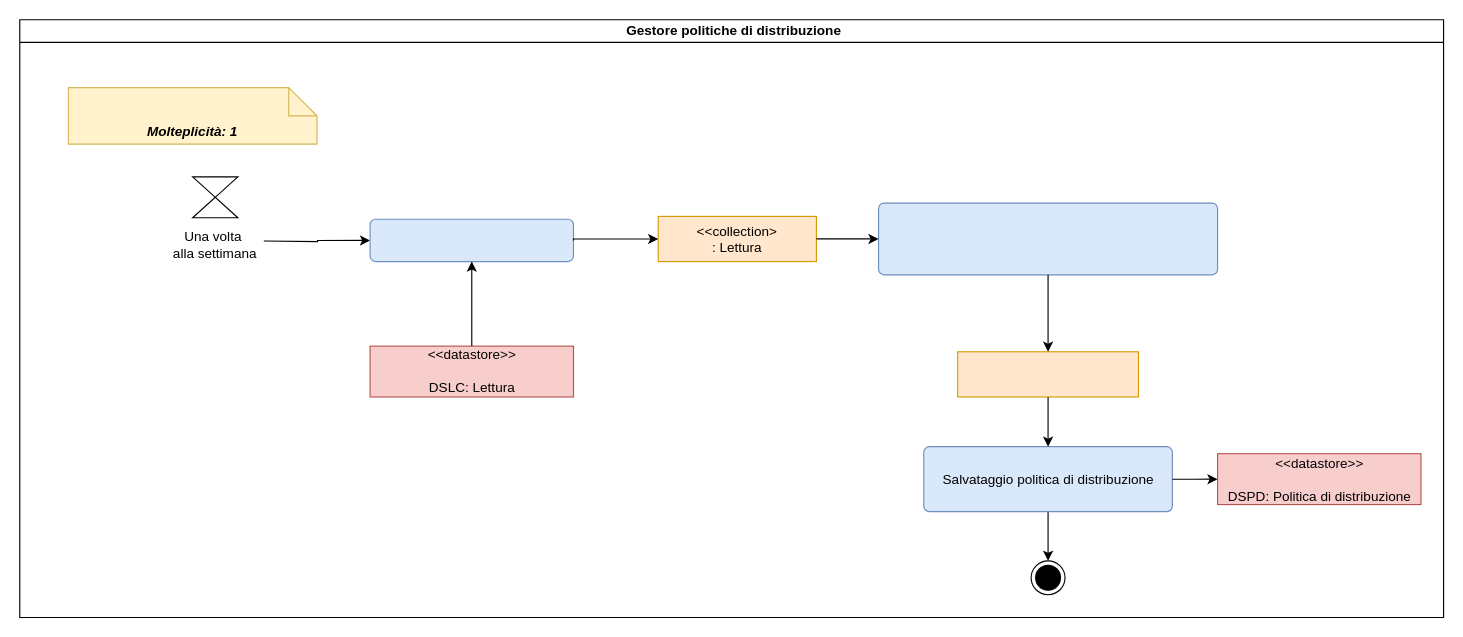
Image size: 1463x637. Some labels were removed from this diagram. The centre of each missing label's shape, as x and y in pixels:
": Politica di distribuzione" belongs at point 1047,374.
"Analisi dei dati per nuova politica di distribuzione" belongs at point 1047,238.
"Recupero informazioni letture" belongs at point 471,240.
